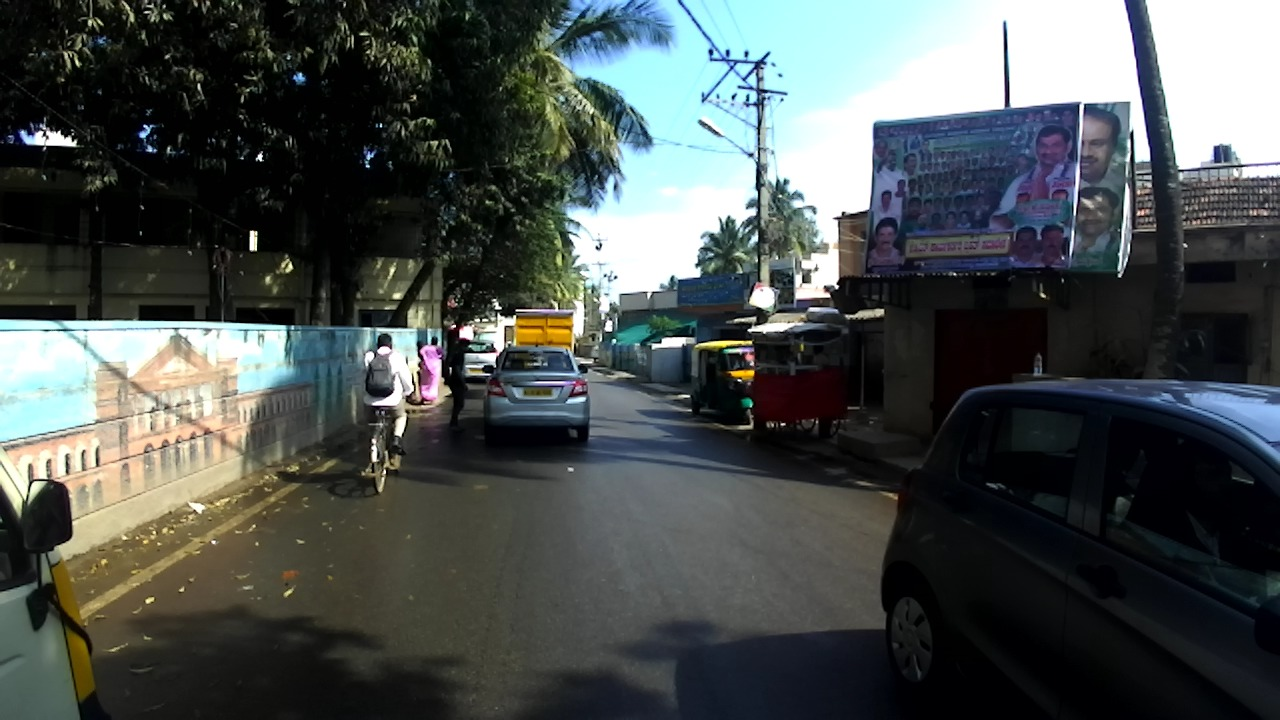autorickshaw: (686, 339, 766, 426)
car: (880, 378, 1280, 720), (480, 344, 592, 449), (456, 340, 501, 385)
motorcycle: (360, 374, 413, 496)
person: (442, 336, 471, 432), (417, 334, 444, 406), (415, 340, 426, 367)
rider: (362, 331, 411, 453)
truck: (513, 307, 575, 365)
vehicle fallback: (1, 452, 108, 720), (744, 322, 854, 444), (504, 325, 513, 344)
